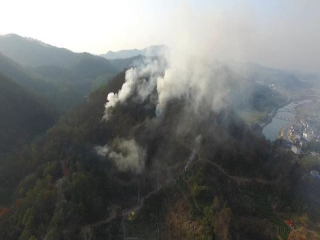smoke: (94, 15, 280, 176)
